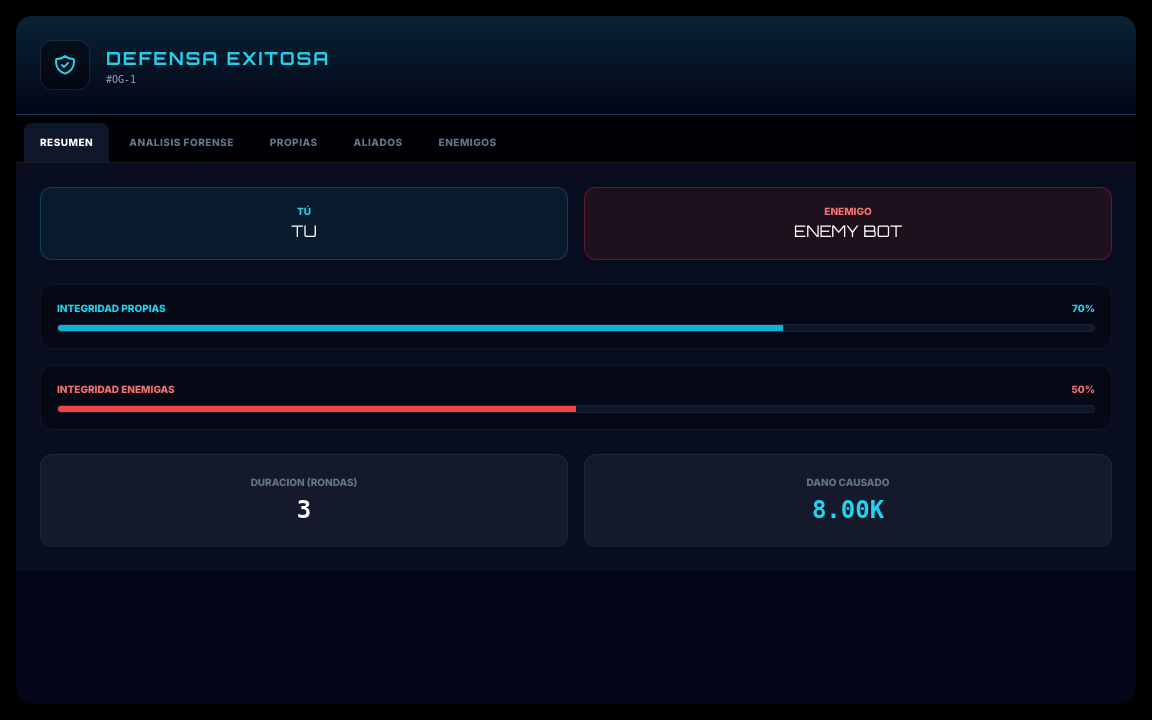
Test: Combat Report Modal - Integration Tests › Casualties Rendering › should render enemy casualties in unit list
# Navigate to enemy tab
Step 1. Click the button "Enemigos" → point(468, 142), box [422,123,512,162]
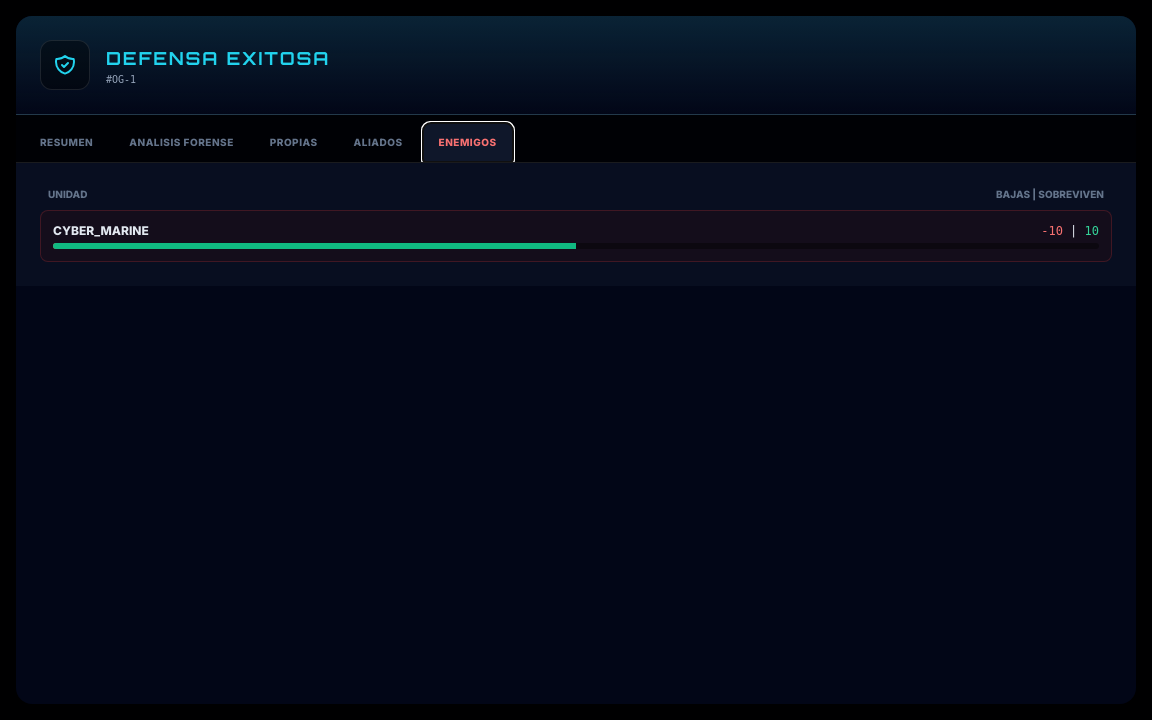
Expected: the text "-10" is shown, [1041,224,1063,238]
